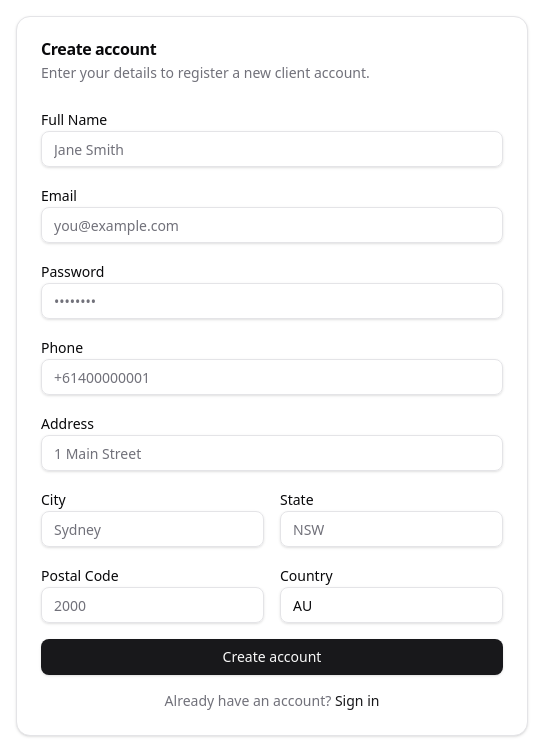
RegisterPage › shows validation error for weak password
Type "weak" into the password field labelled "Password" at (272, 301), box [41,283,503,319]
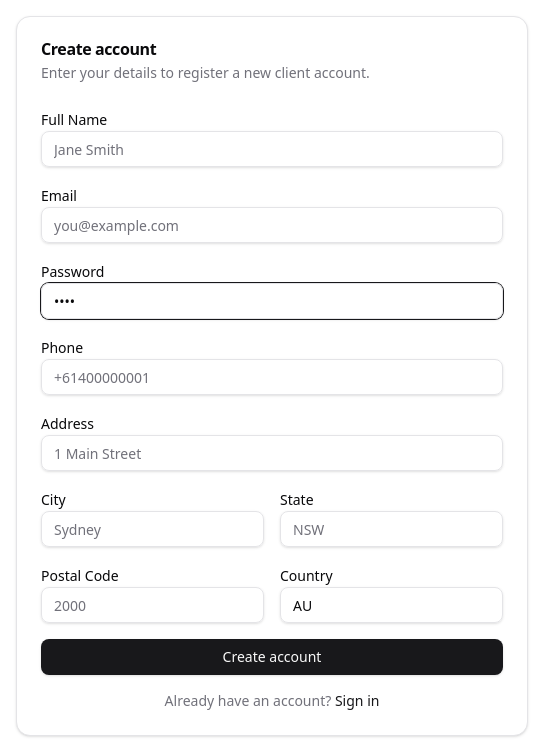
Click the button "Create account" at (272, 657), box [41,639,503,675]
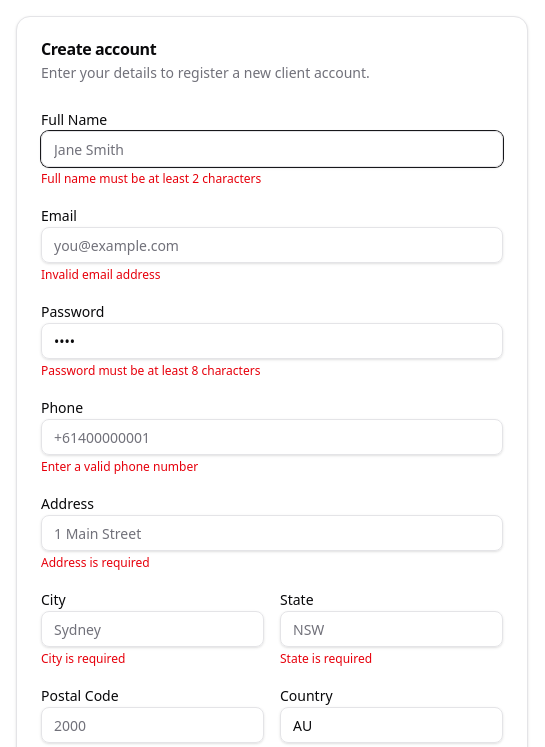
Expected: the text "Password must be at least 8 characters" is shown, [41,362,260,379]
